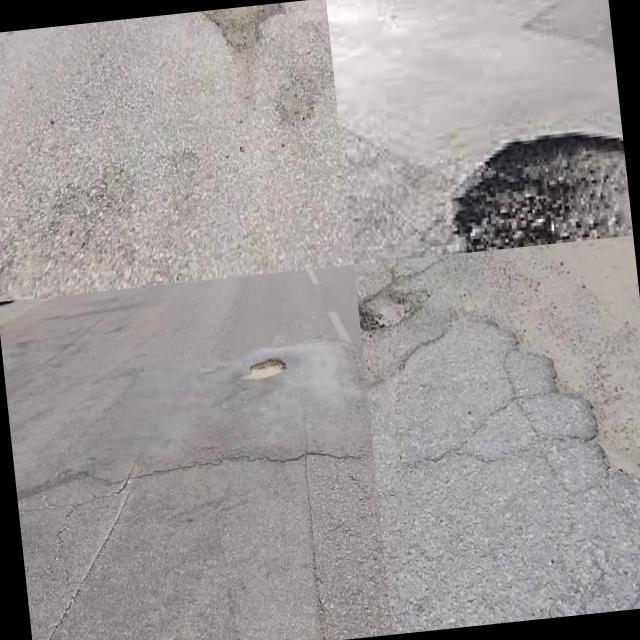Pothole: (451, 134, 625, 251), (550, 356, 640, 481), (200, 3, 289, 50), (358, 287, 415, 332), (278, 70, 314, 121), (248, 357, 285, 382)
